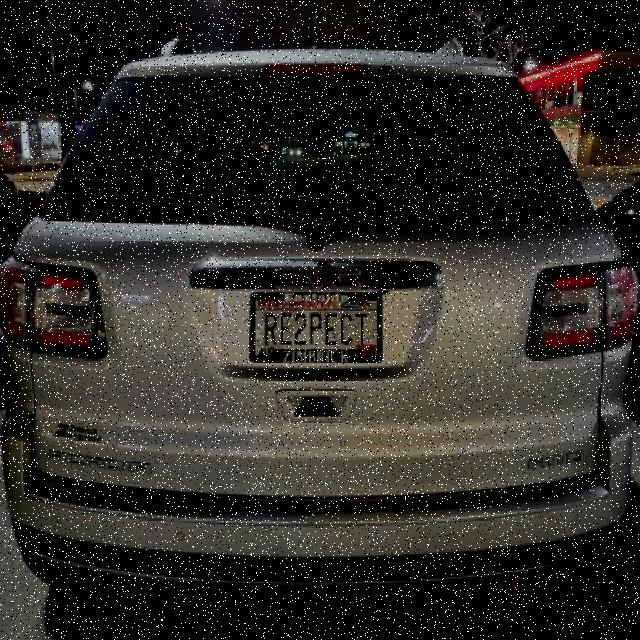LicensePlate: (249, 292, 384, 364)
